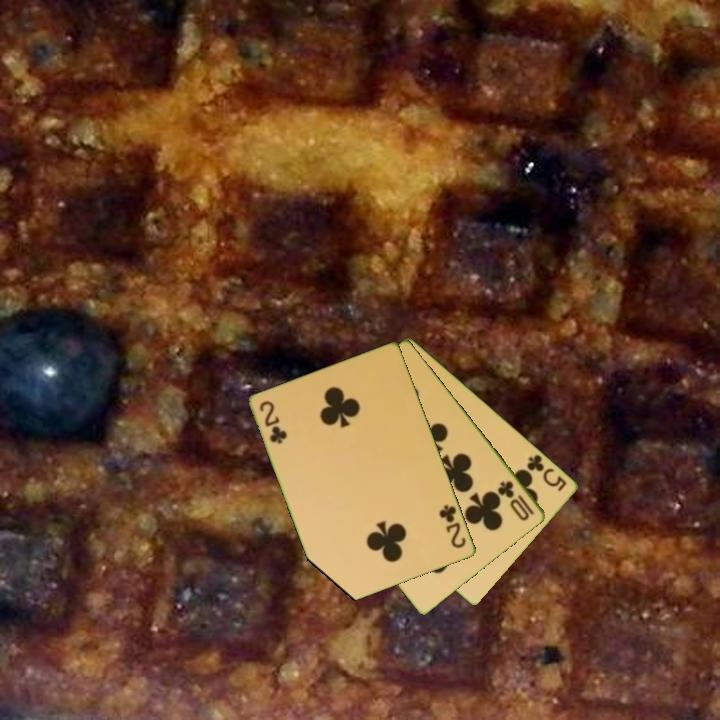10c: (494, 477, 537, 524)
2c: (436, 501, 469, 551), (256, 397, 289, 447)
5c: (524, 451, 570, 494)
